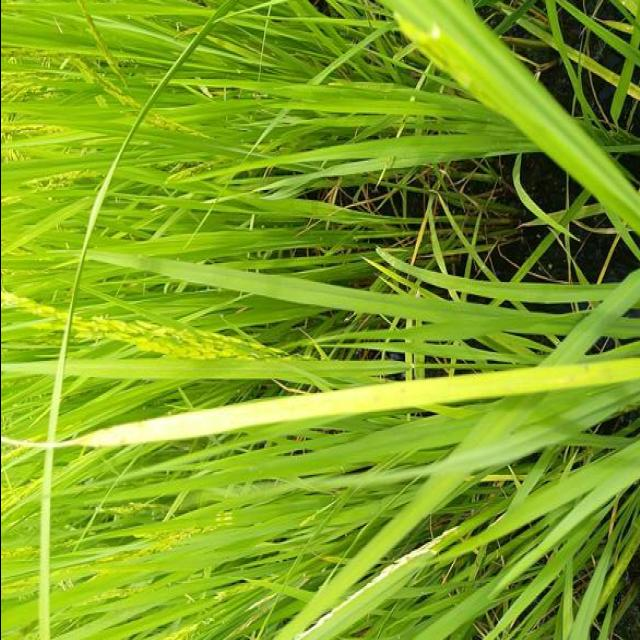Leaf Blight: (0, 359, 640, 447)
